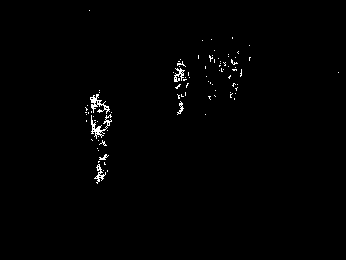person: (84, 92, 118, 184), (173, 56, 189, 116)
